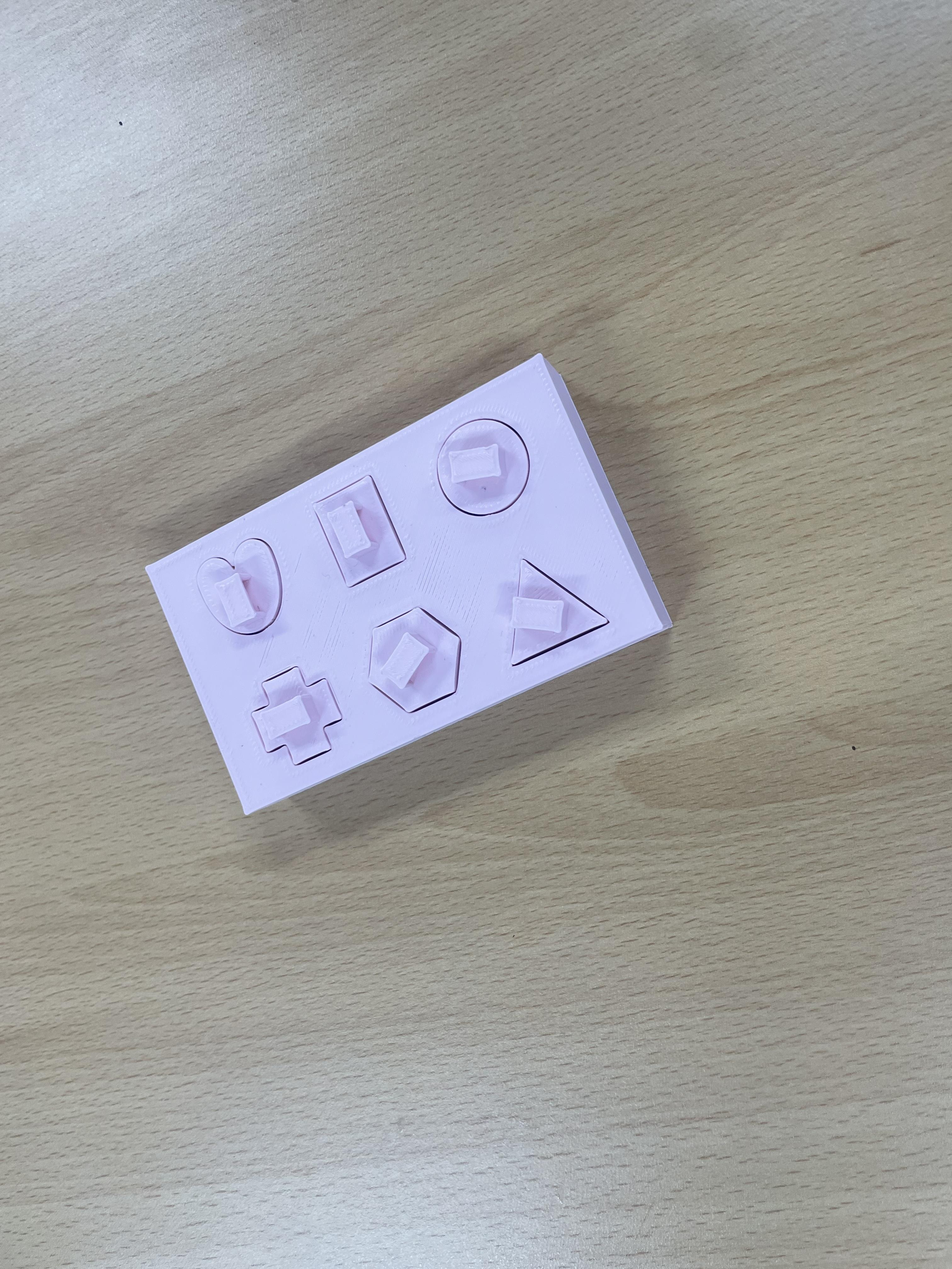solved: (132, 334, 689, 845)
